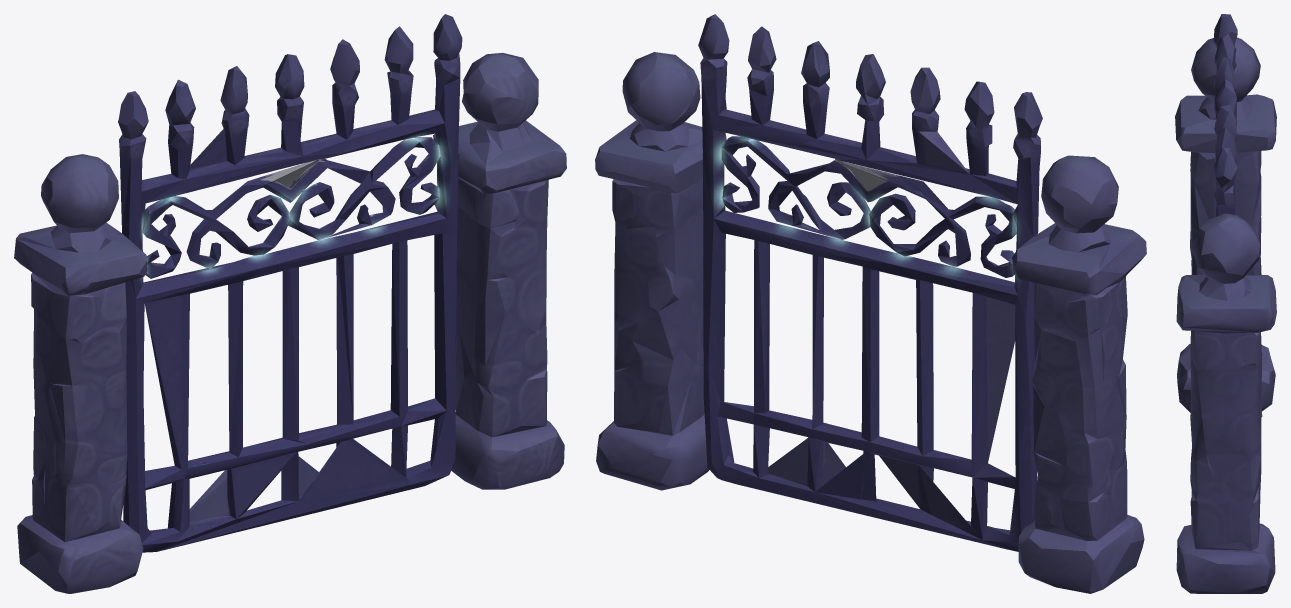
File: iron_fence.glb
3 views of the same model, side by side, from view 1: azimuth 30°, elevation 25°; view 2: azimuth 150°, elevation 25°; view 3: azimuth 270°, elevation 25° (orthographic). The views are drawn at different scales.
Bounding box in the file's own units: 1.9 × 1.66 × 0.3735.
Materials: 1 (1 with a texture image).
